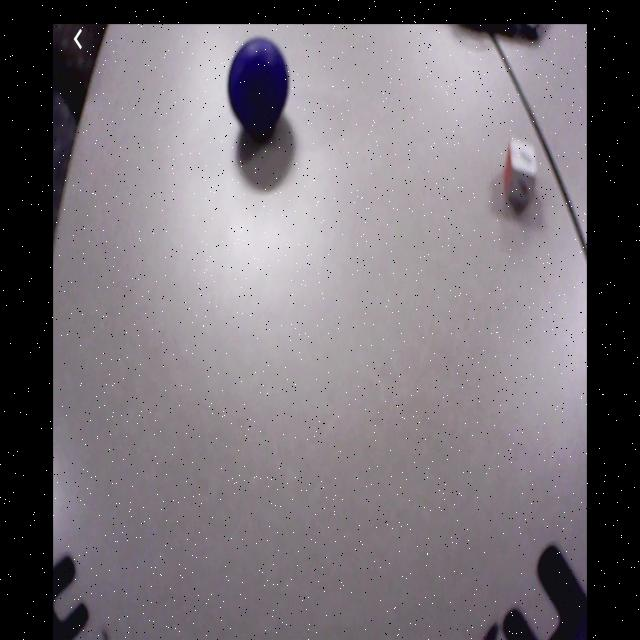ball: (228, 35, 289, 134)
